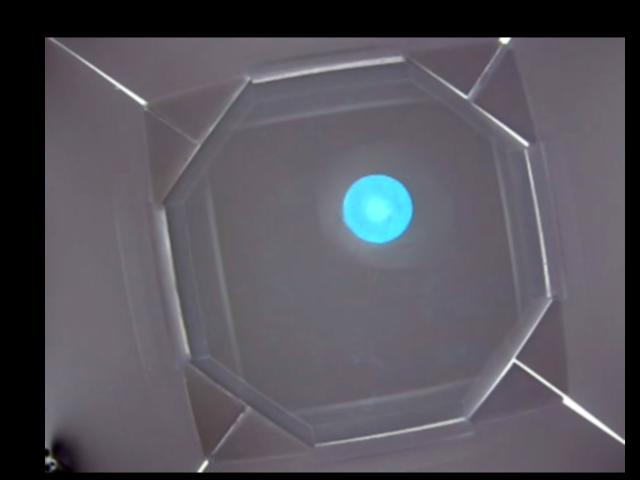Carrot: (343, 174, 412, 244)
